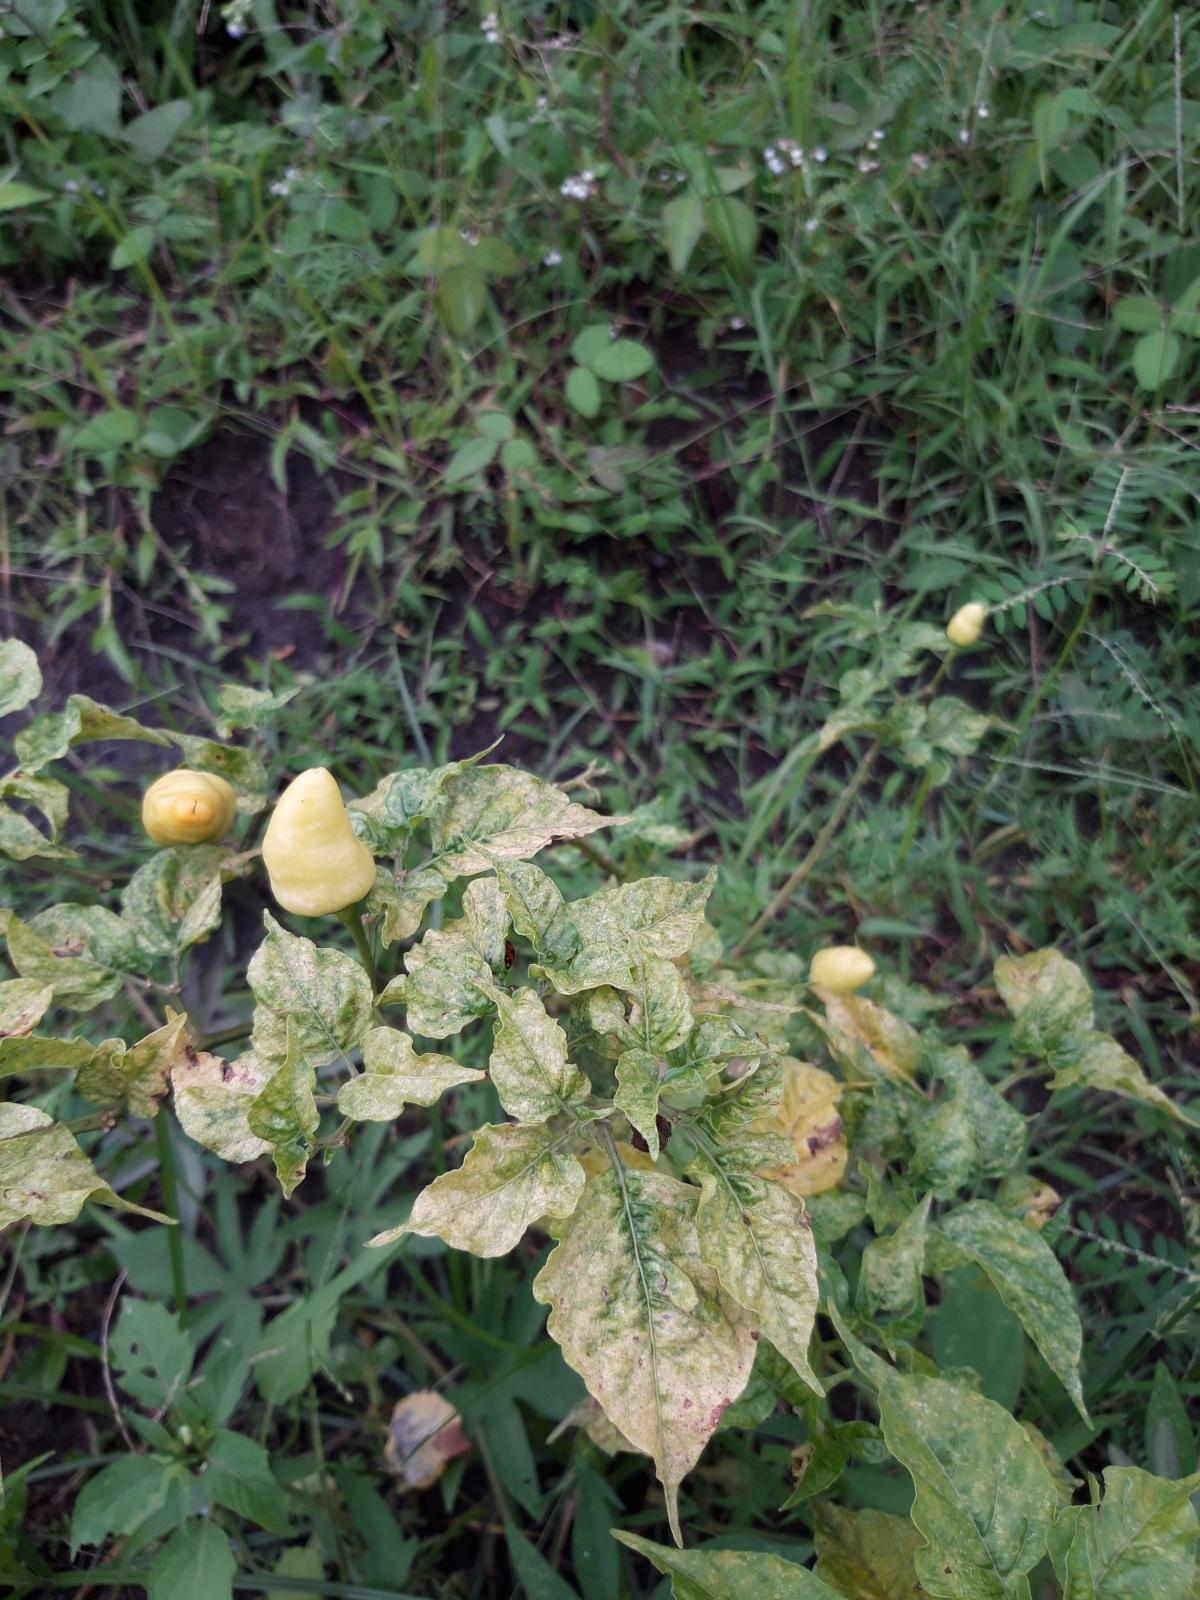cabai_normal: (261, 766, 376, 916), (142, 767, 238, 844), (808, 946, 875, 989)
